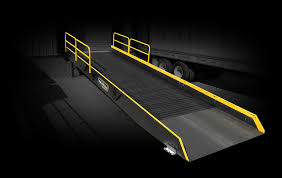Yard Ramp: (63, 27, 267, 161)
